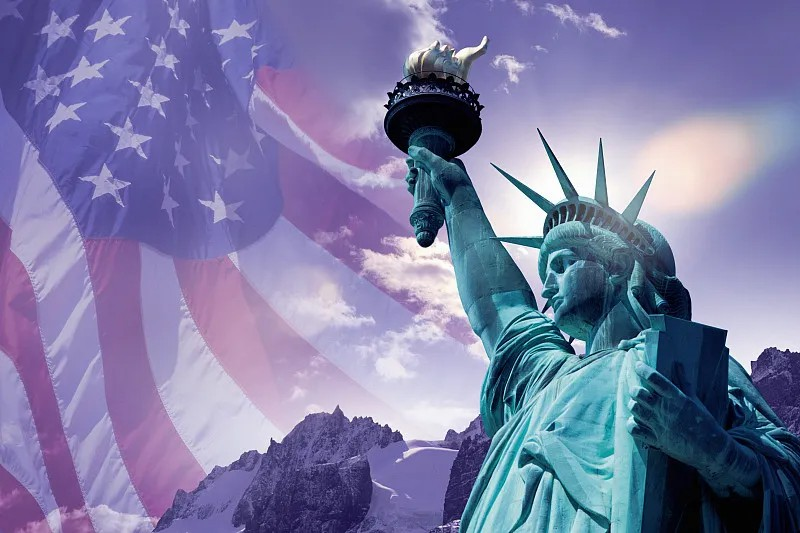SL: (384, 35, 800, 533)
